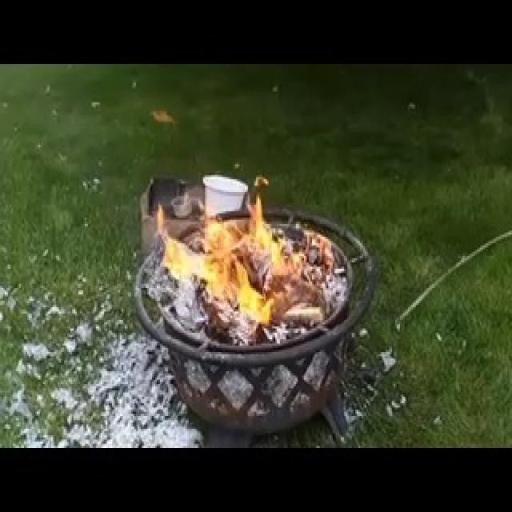smoke: (116, 120, 335, 337)
